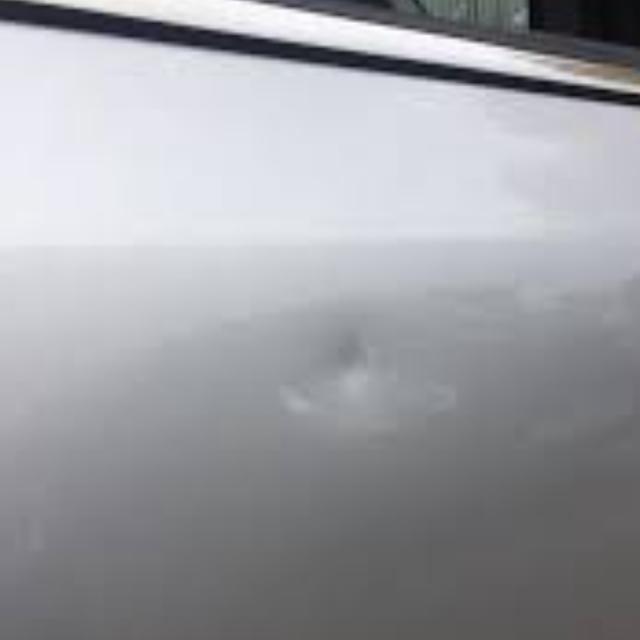dents: (282, 288, 413, 442)
